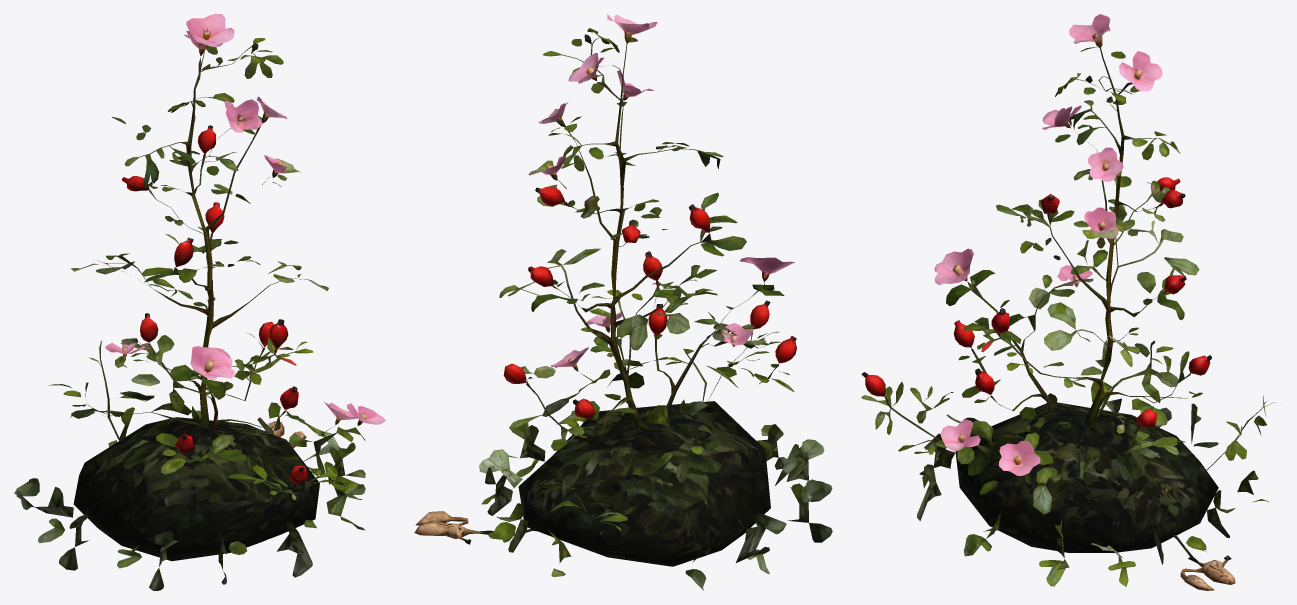
File: dogrose.glb
3 views of the same model, side by side, from view 1: azimuth 30°, elevation 25°; view 2: azimuth 150°, elevation 25°; view 3: azimuth 270°, elevation 25° (orthographic). The views are drawn at different scales.
Parts seen in each view (by area): view 1: tripo_node_9cb7154e-1095-4524-bbbc-0d12bd8739a8; view 2: tripo_node_9cb7154e-1095-4524-bbbc-0d12bd8739a8; view 3: tripo_node_9cb7154e-1095-4524-bbbc-0d12bd8739a8.
Part boxes in pixels (x1,y1,x2,y2): tripo_node_9cb7154e-1095-4524-bbbc-0d12bd8739a8: (14, 14, 385, 590); tripo_node_9cb7154e-1095-4524-bbbc-0d12bd8739a8: (414, 14, 832, 590); tripo_node_9cb7154e-1095-4524-bbbc-0d12bd8739a8: (861, 14, 1281, 590).
Bounding box in the file's own units: 0.6763 × 0.9995 × 0.7583.
Materials: 1 (1 with a texture image).
